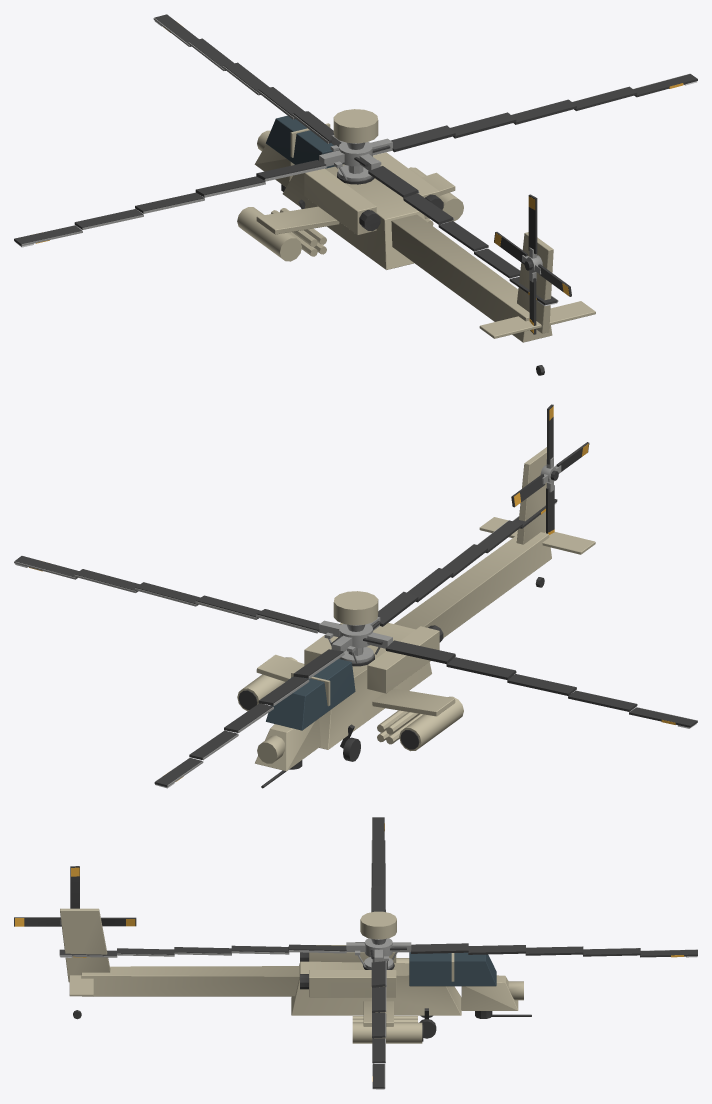
File: heli_usa.glb
3 views of the same model, one above another, from view 1: azimuth 30°, elevation 25°; view 2: azimuth 150°, elevation 25°; view 3: azimuth 270°, elevation 25° (orthographic). The views are drawn at different scales.
Visible parts, largest first — view 1: body, rotor, trotor; view 2: body, rotor, trotor; view 3: body, rotor, trotor.
Part boxes in pixels (x1,y1,x2,y2): body: [237, 109, 595, 375]; rotor: [14, 14, 697, 306]; trotor: [494, 194, 571, 334]; body: [237, 447, 595, 788]; rotor: [14, 499, 697, 788]; trotor: [511, 404, 589, 534]; body: [60, 908, 531, 1043]; rotor: [59, 817, 697, 1089]; trotor: [14, 866, 136, 926].
Bounding box in the file's own units: 14.61 × 3.97 × 15.66.
